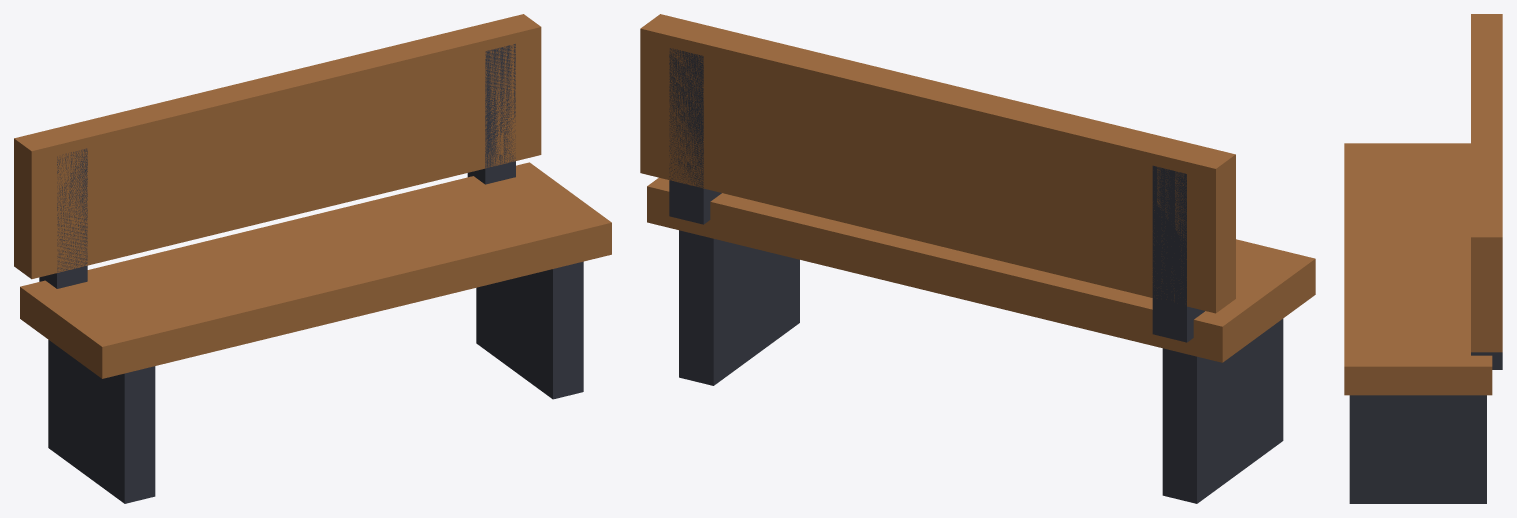
File: mdl_banca.fbx
3 views of the same model, side by side, from view 1: azimuth 30°, elevation 25°; view 2: azimuth 150°, elevation 25°; view 3: azimuth 270°, elevation 25° (orthographic). The views are drawn at different scales.
Visible parts, largest first — view 1: mdl_banca; view 2: mdl_banca; view 3: mdl_banca.
Part boxes in pixels (x1,y1,x2,y2): mdl_banca: [14, 14, 611, 503]; mdl_banca: [640, 14, 1315, 503]; mdl_banca: [1344, 14, 1502, 503].
Size of the model in its own units: 500 by 290 by 150.
